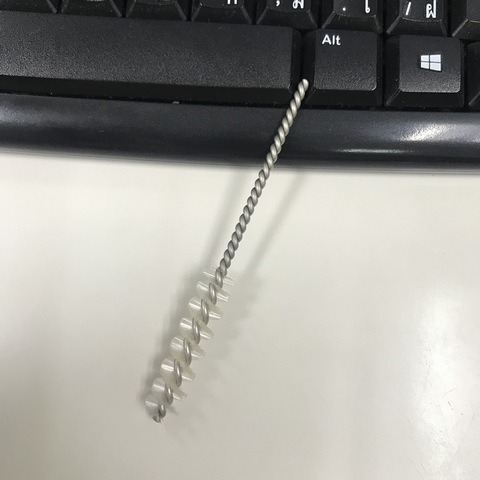Twist Brush-B: (144, 82, 323, 421)
